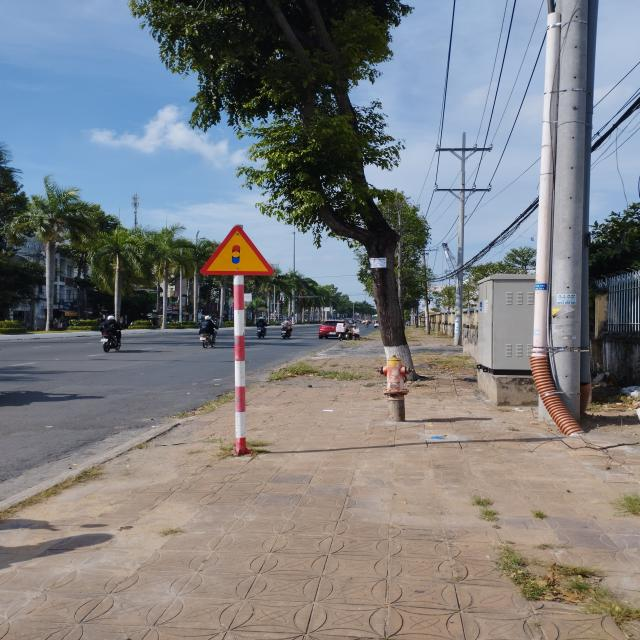Duong_Co_Go_Giam_Toc: (199, 226, 274, 276)
